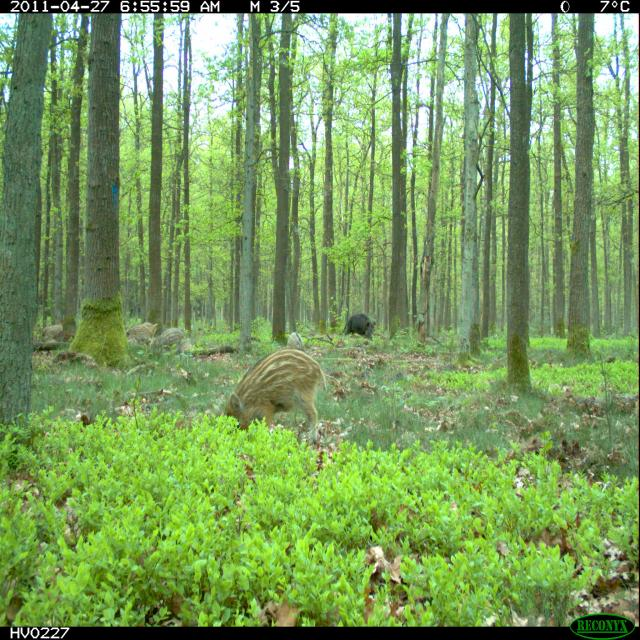boar: (193, 326, 371, 454), (147, 320, 201, 358), (121, 311, 163, 351), (336, 307, 383, 341), (284, 322, 312, 364)
